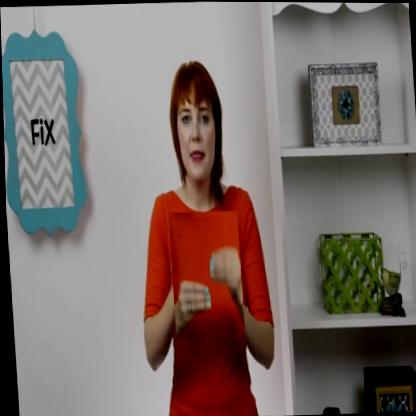Fix: (167, 210, 244, 339)
